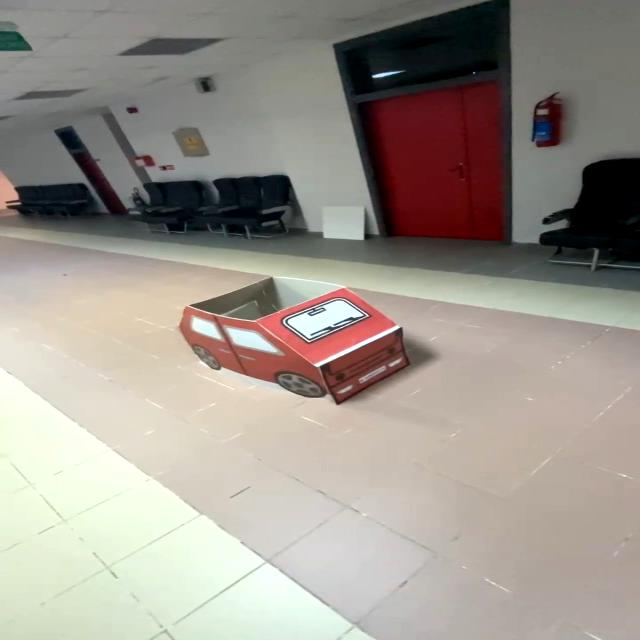red_car: (157, 266, 449, 423)
